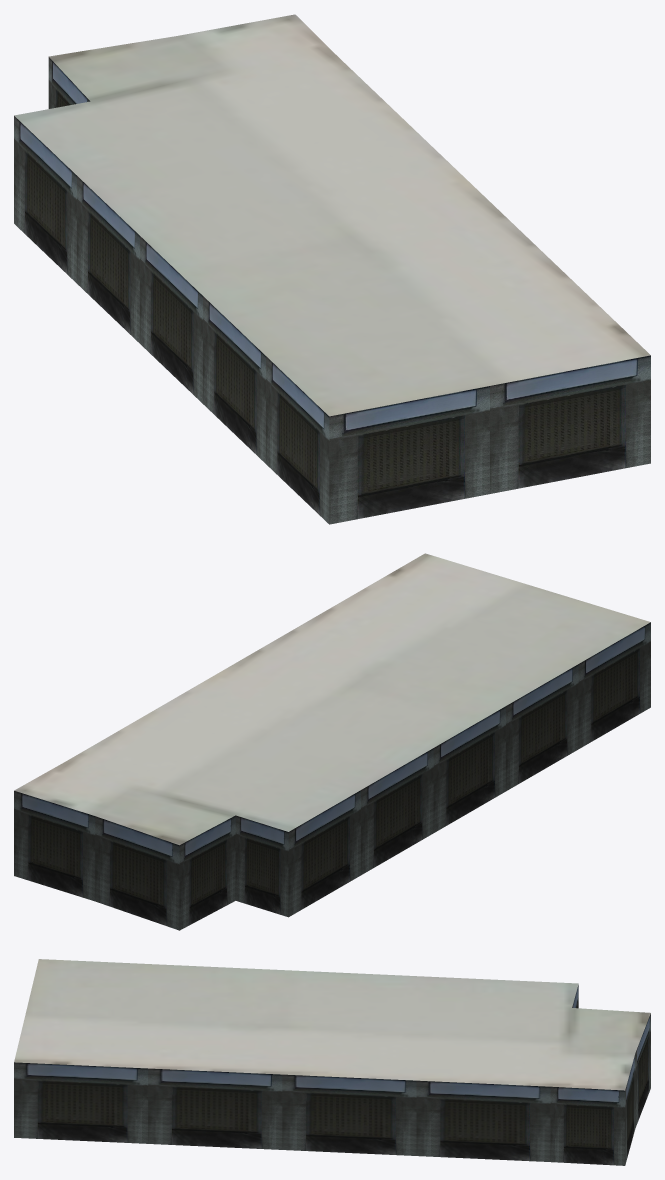
The picture shows the model from 3 angles, top to bottom: view 1: azimuth 30°, elevation 25°; view 2: azimuth 150°, elevation 25°; view 3: azimuth 270°, elevation 25°; orthographic projection. The views are drawn at different scales.
Visible parts, largest first — view 1: SketchUp (×4); view 2: SketchUp (×6); view 3: SketchUp (×5).
Part boxes in pixels (x1=…): SketchUp (×4): x1=14, y1=14, x2=650, y2=524; SketchUp (×6): x1=14, y1=553, x2=650, y2=930; SketchUp (×5): x1=14, y1=959, x2=650, y2=1165.
Bounding box in the file's own units: 13.8 × 28.25 × 3.69.
Materials: 2 (2 with a texture image).
